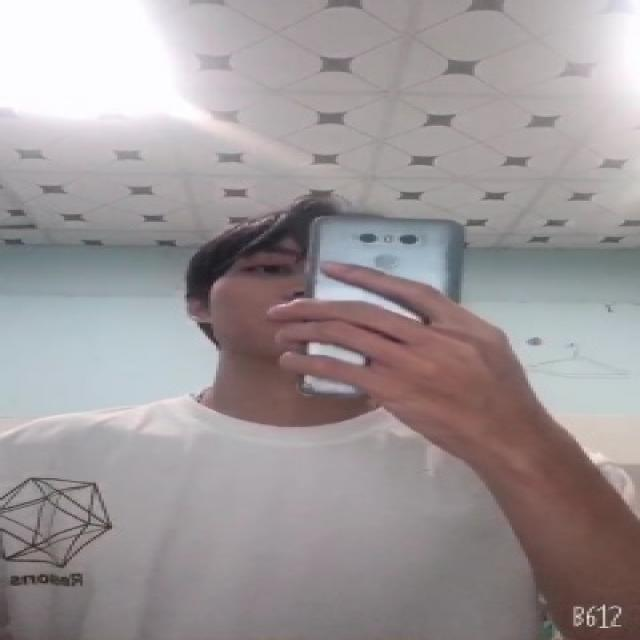Phone: (294, 211, 466, 404)
